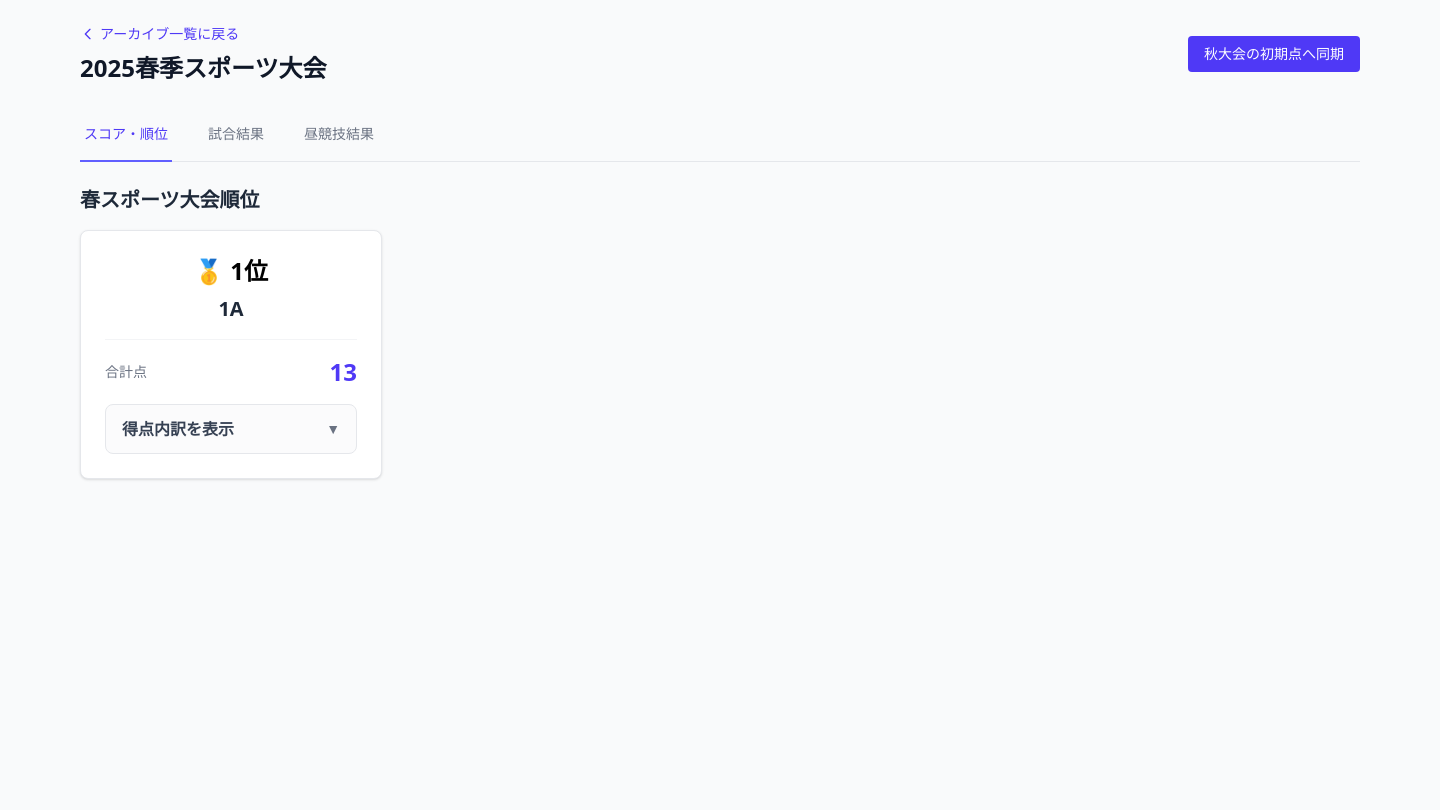
Test: Archive Event Detail Page › タイピング結果が未確定なら専用の案内を表示すること
Click the button "昼競技結果".
click(339, 135)  # box [300, 108, 378, 162]
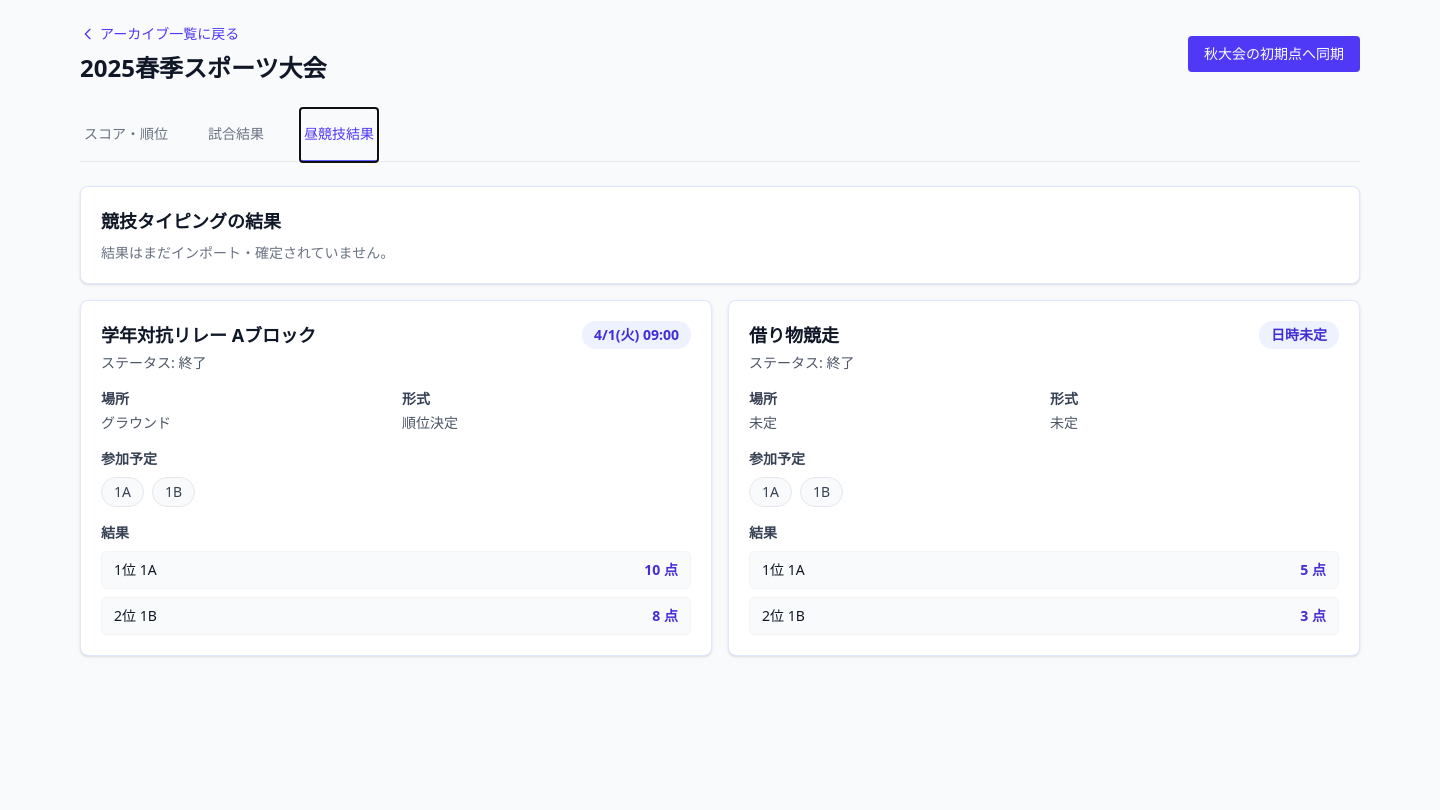
Now the text "結果はまだインポート・確定されていません。" is shown, box [101, 243, 394, 262]
